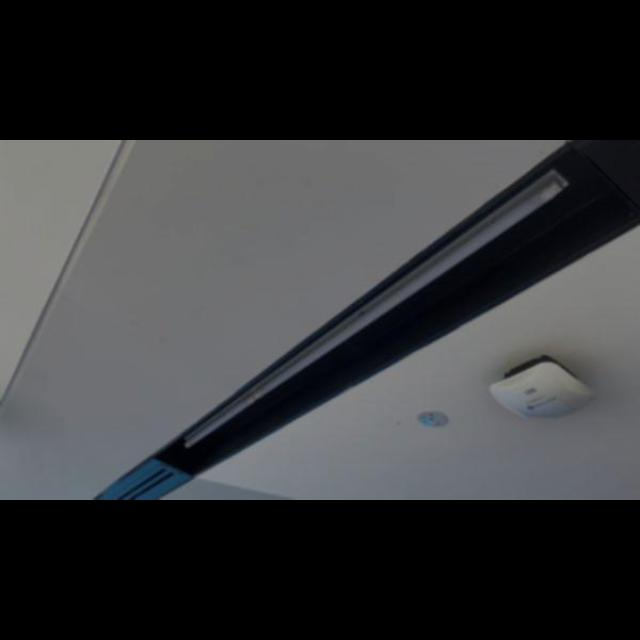Straight-Tube-Fluorescent-Lamp: (173, 162, 573, 456)
